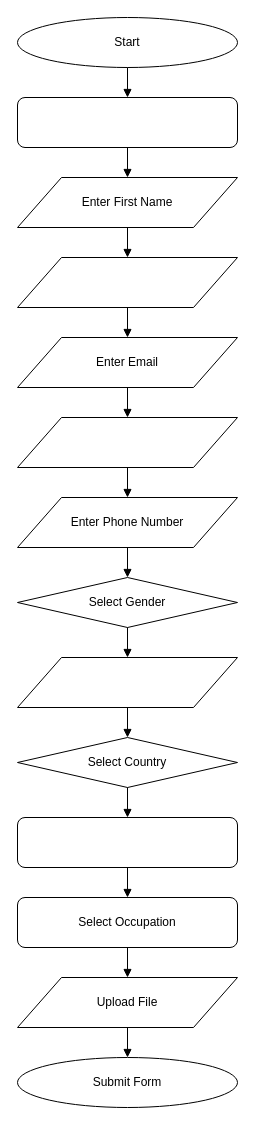
Some shapes in this 255 by 1125 pixel diagram are drawn without their labels. Each missing label, with the centre of its shape:
"Enter Age" goes at point 127,682.
"Enter Last Name" goes at point 127,282.
"Enter Password" goes at point 127,442.
"Fill Registration Form" goes at point 127,122.
"Select Preferences" goes at point 127,842.
